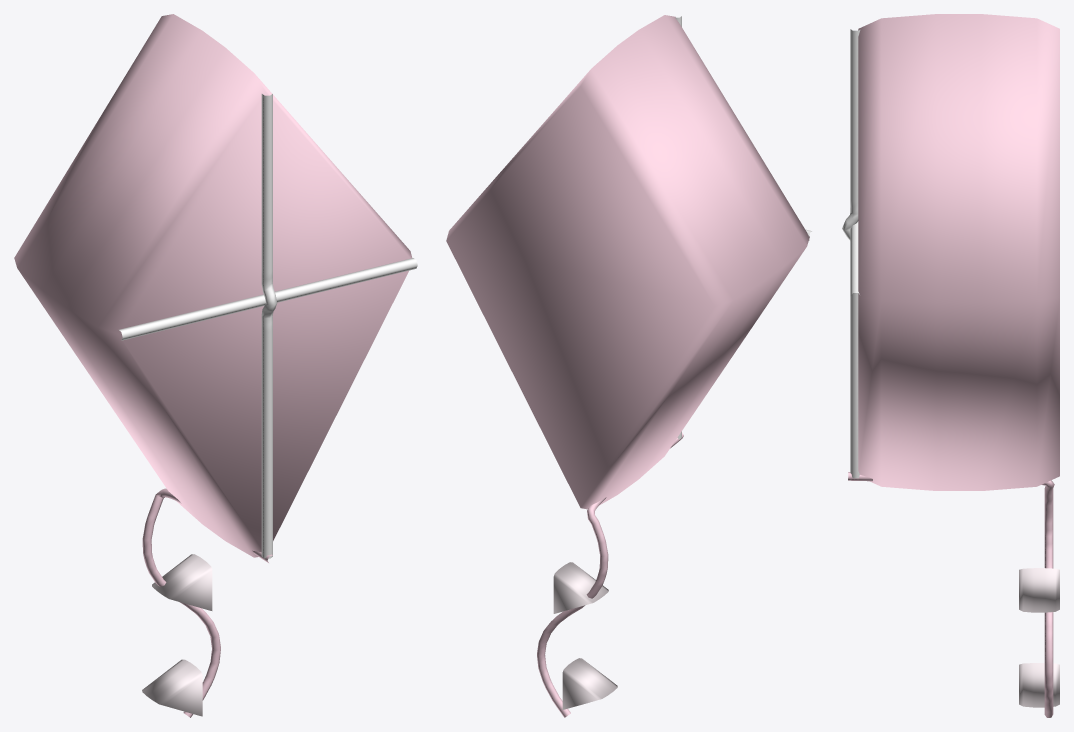
File: decor_5_candy.glb
3 renders of one model, left to right at view 1: azimuth 30°, elevation 25°; view 2: azimuth 150°, elevation 25°; view 3: azimuth 270°, elevation 25°, orthographic. The views are drawn at different scales.
Visible parts, largest first — view 1: decor_5_candy; view 2: decor_5_candy; view 3: decor_5_candy.
Part boxes in pixels (left/top/right/bottom): decor_5_candy: left=14, top=14, right=417, bottom=717; decor_5_candy: left=446, top=15, right=811, bottom=717; decor_5_candy: left=842, top=14, right=1059, bottom=717.
Bounding box in the file's own units: 6.51 × 13.94 × 3.97.
